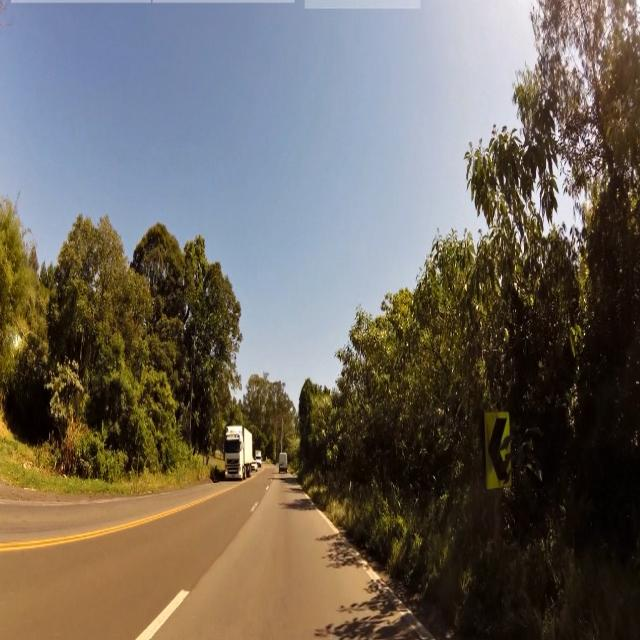Del: (482, 411, 513, 489)
